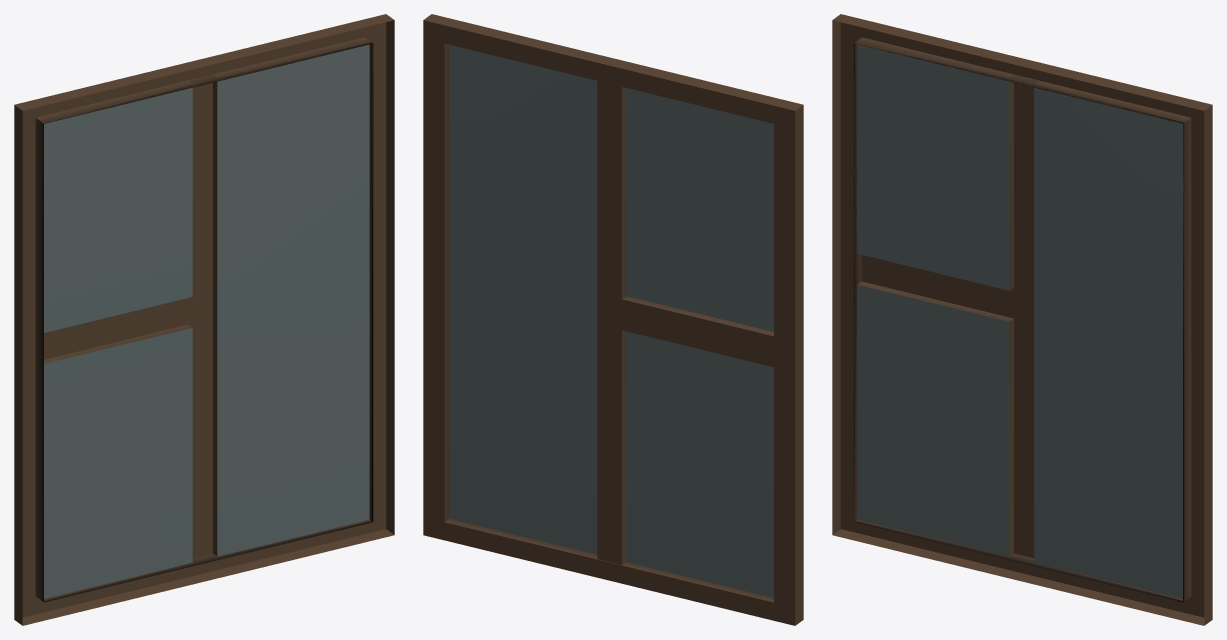
File: Flat_old_window_brown_2.fbx
The picture shows the model from 3 angles, left to right: view 1: azimuth 30°, elevation 25°; view 2: azimuth 150°, elevation 25°; view 3: azimuth 330°, elevation 25°; orthographic projection.
Visible parts, largest first — view 1: Flat_old_window_brown_2; view 2: Flat_old_window_brown_2; view 3: Flat_old_window_brown_2.
Boxes of the visible parts, <box> form: Flat_old_window_brown_2: <box>14,14,394,625</box>; Flat_old_window_brown_2: <box>423,14,803,625</box>; Flat_old_window_brown_2: <box>832,14,1212,625</box>.
Size of the model in its own units: 2.39 by 0.0941 by 3.16.
